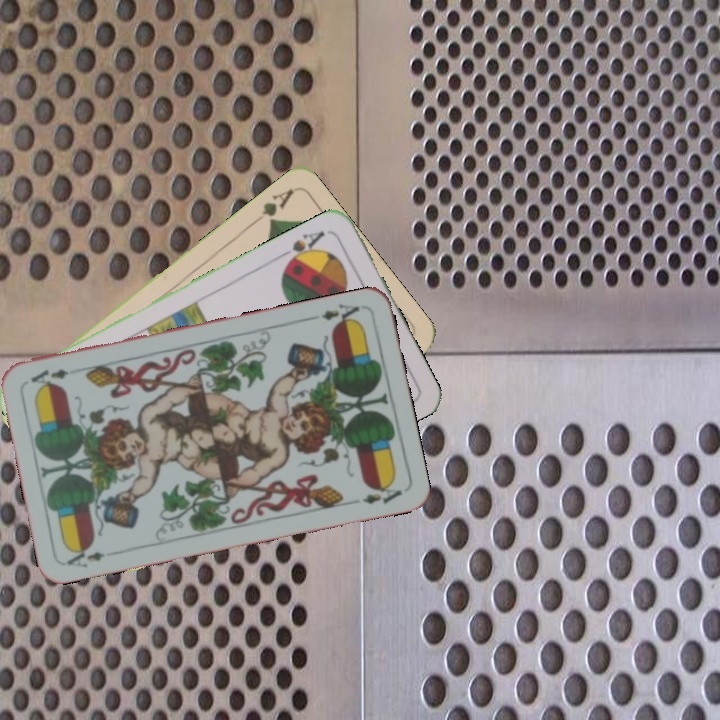EA: (63, 542, 121, 570), (317, 300, 362, 329)
GA: (247, 185, 297, 228)
SA: (276, 226, 327, 269)
